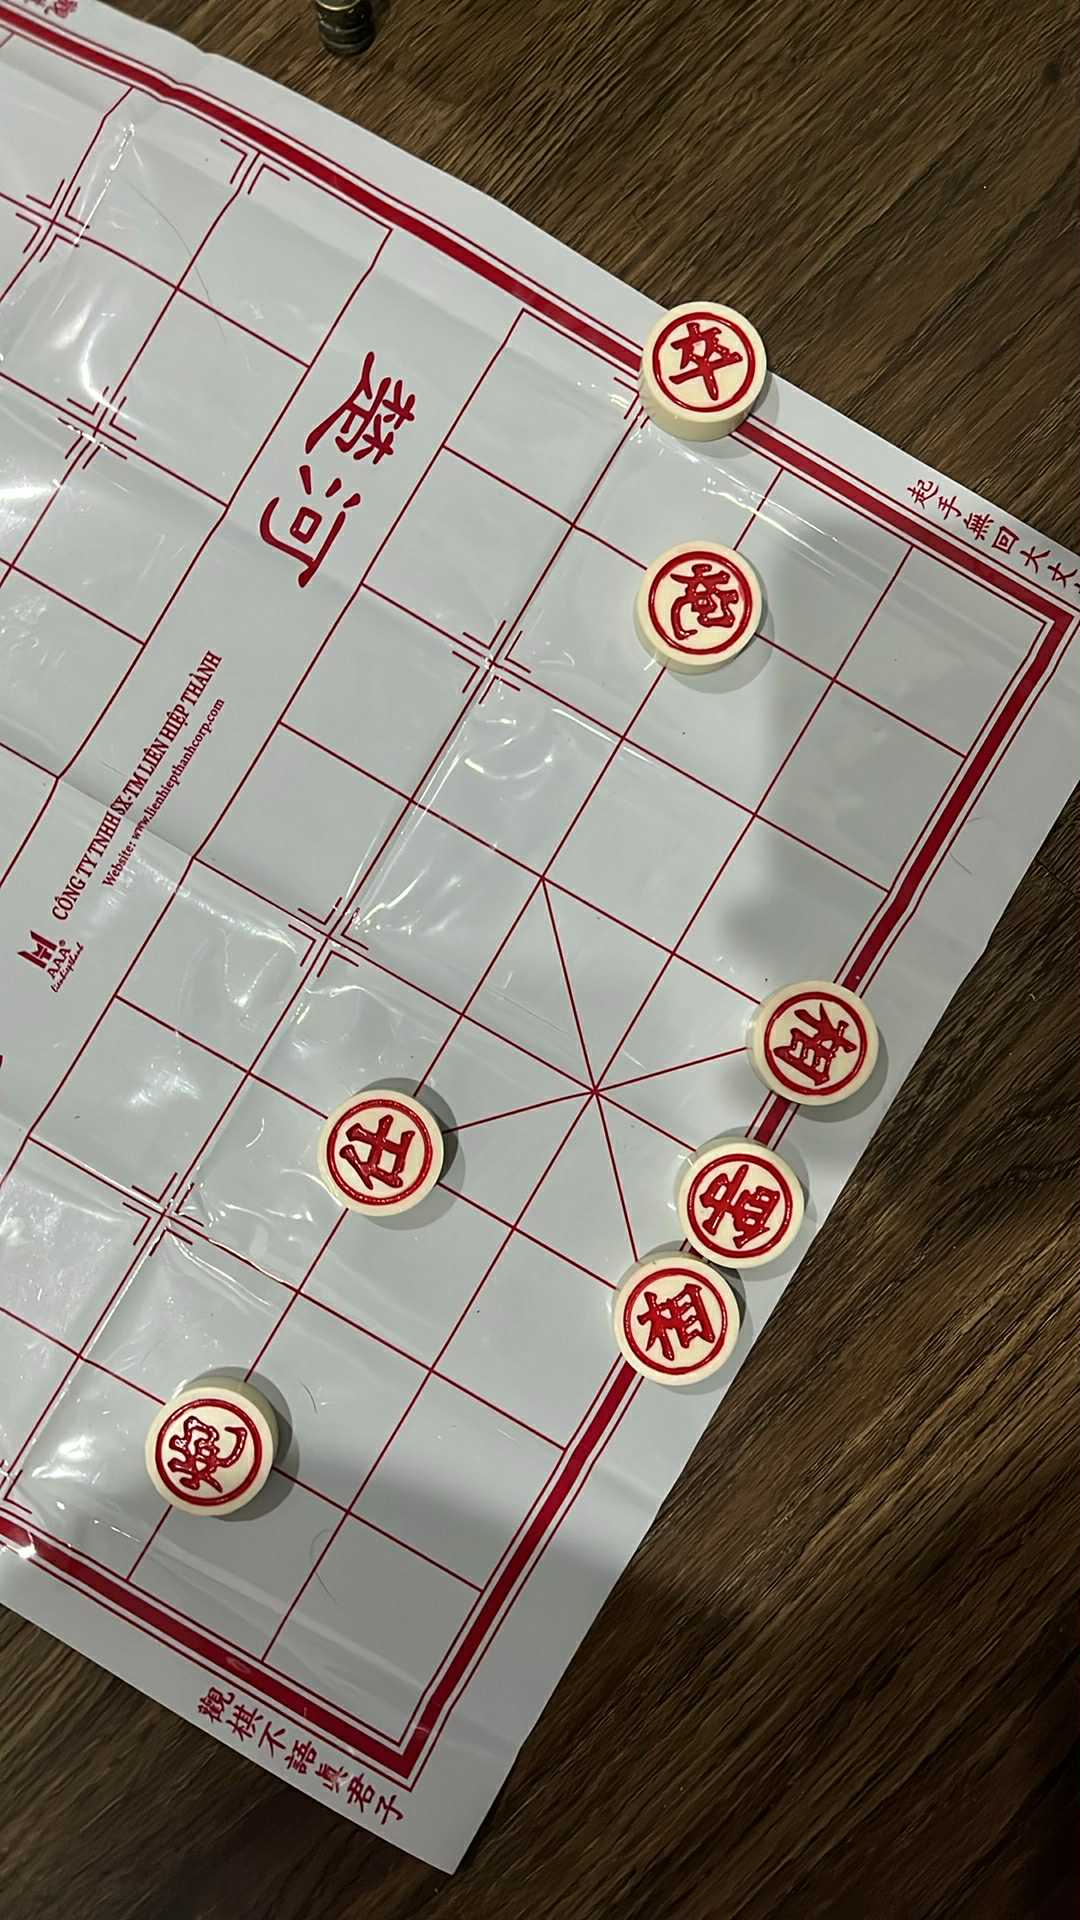red-advisor: (316, 1090, 444, 1216)
red-cannon: (143, 1387, 277, 1519), (632, 538, 764, 668)
red-elephant: (750, 978, 880, 1107), (613, 1258, 741, 1385)
red-general: (678, 1143, 806, 1269)
red-soldier: (642, 301, 767, 425)
